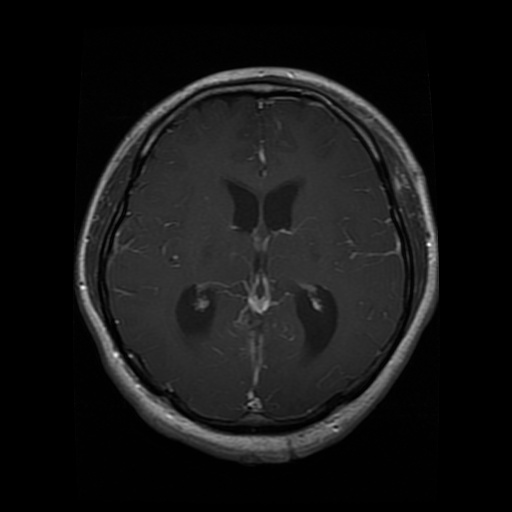glioma: (292, 282, 337, 360)
